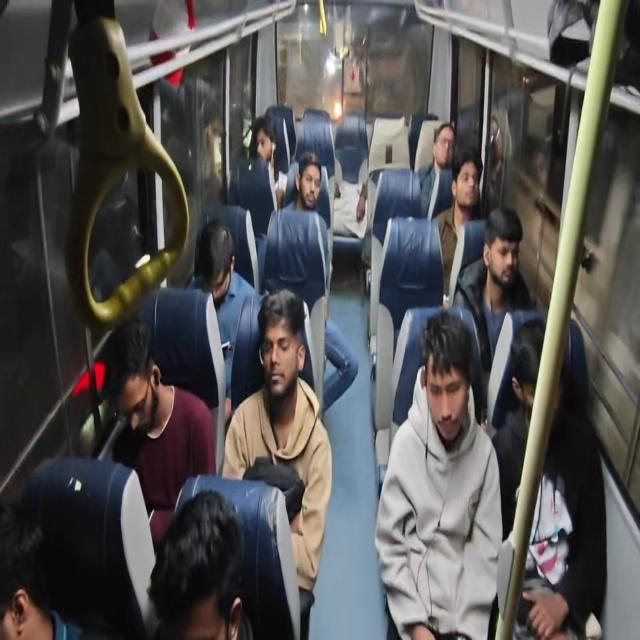person: (374, 308, 504, 639), (222, 288, 332, 637), (491, 316, 607, 639), (101, 316, 216, 550), (452, 204, 538, 423), (146, 489, 244, 639), (186, 218, 260, 410), (0, 503, 84, 639), (431, 148, 484, 303), (282, 151, 331, 291), (245, 115, 287, 235), (417, 122, 456, 218), (482, 108, 512, 215), (331, 153, 368, 238), (283, 152, 323, 212)
